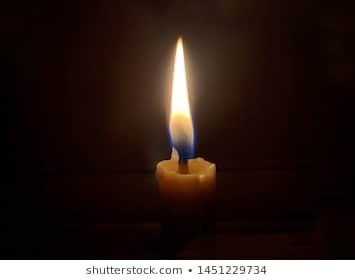fire: (167, 32, 194, 154)
